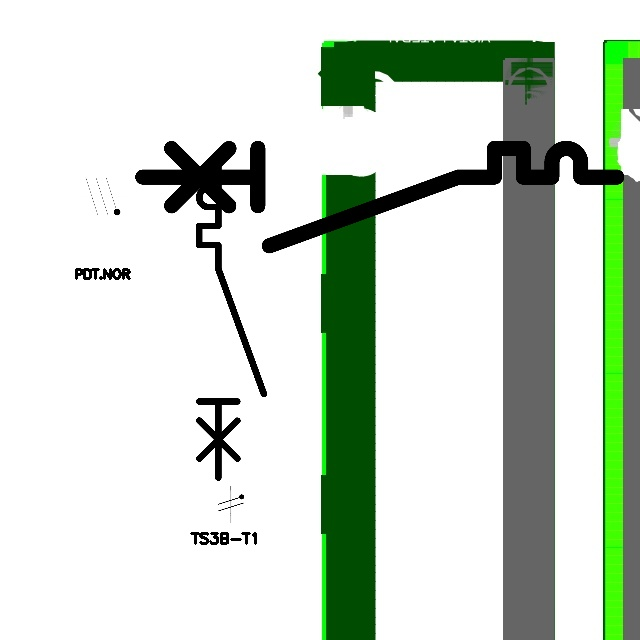interruptor_termomagnetico: (130, 136, 629, 258), (191, 156, 271, 486)
